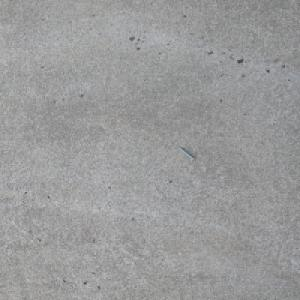Screw: (177, 146, 196, 160)
